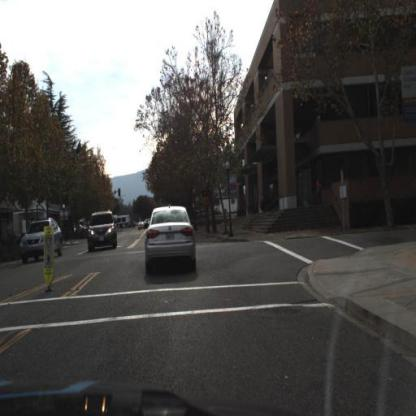car: (145, 206, 197, 276), (19, 216, 65, 265), (86, 211, 119, 253), (138, 221, 146, 231)
pedestrian: (315, 178, 322, 205)
